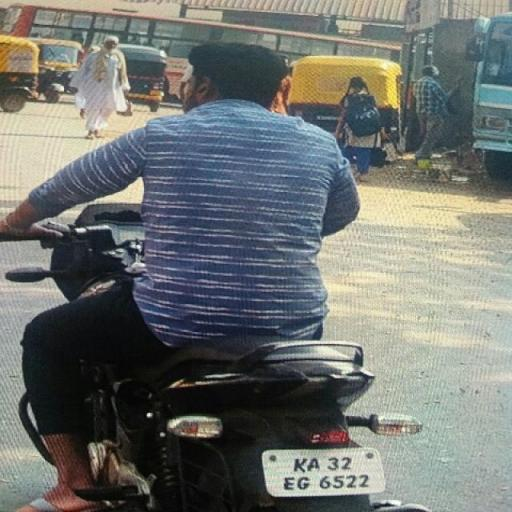bike: (10, 31, 424, 512)
numberplate: (266, 448, 384, 496)
withouthelmet: (192, 40, 278, 105)
